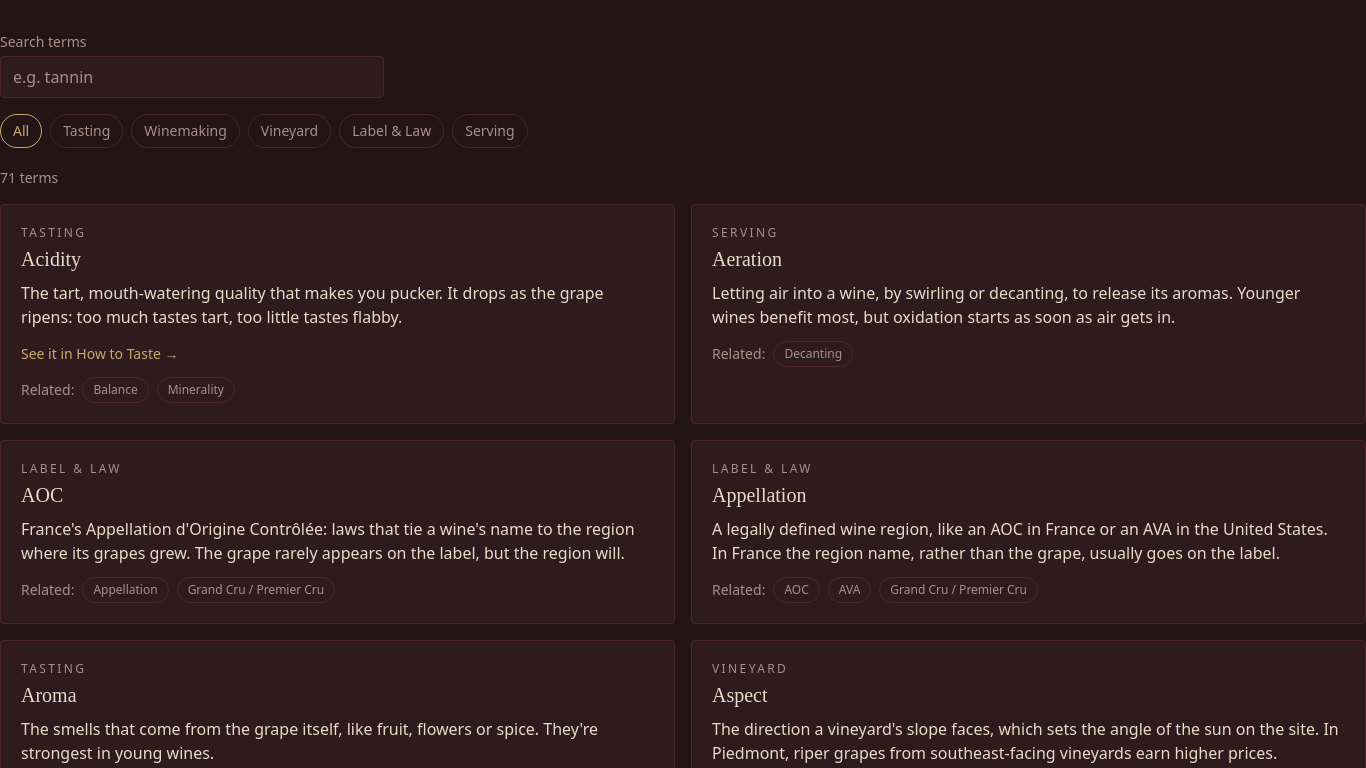
GlossaryChapter › shows an empty state that clears back to everything
The width and height of the screenshot is (1366, 768).
Click the button "Serving" at (490, 131), box [452, 114, 528, 148]
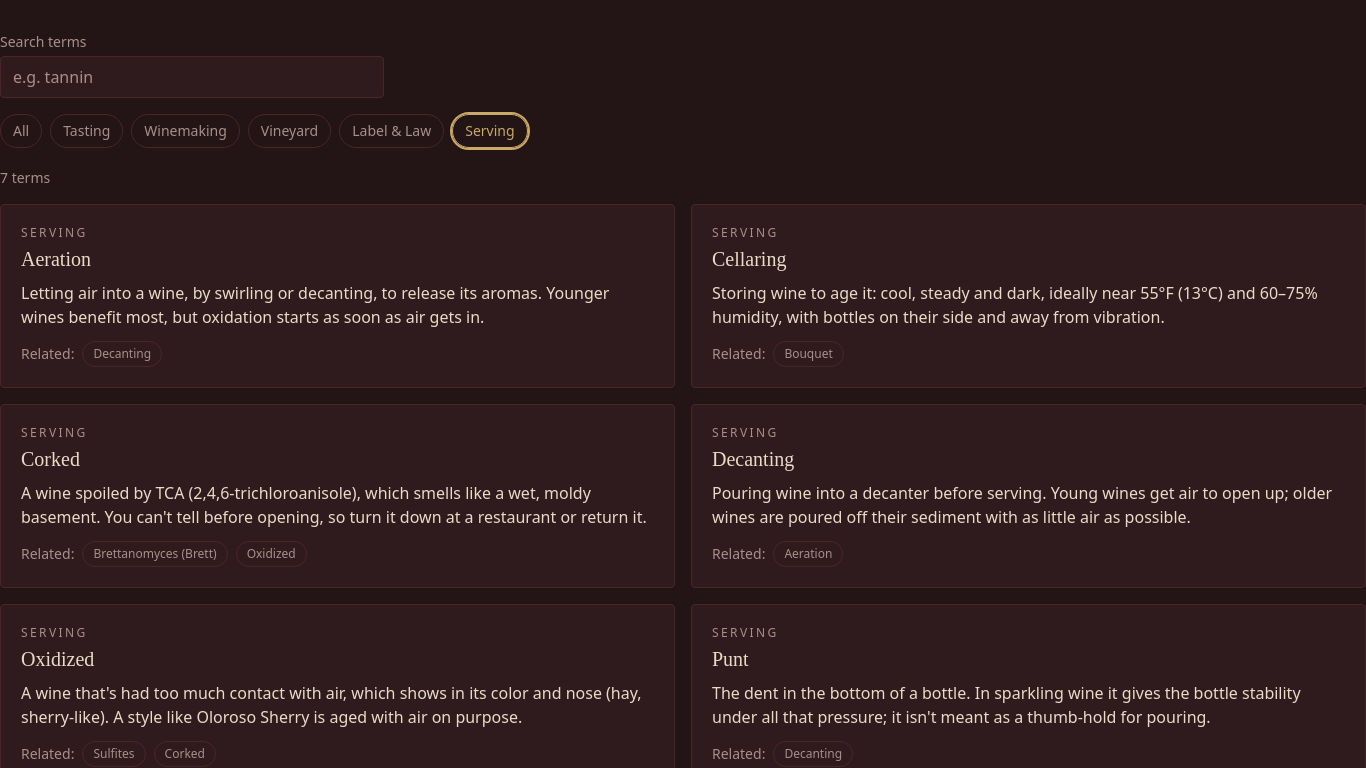
Type "zzzz" into the search field at (192, 77), box [0, 56, 384, 98]
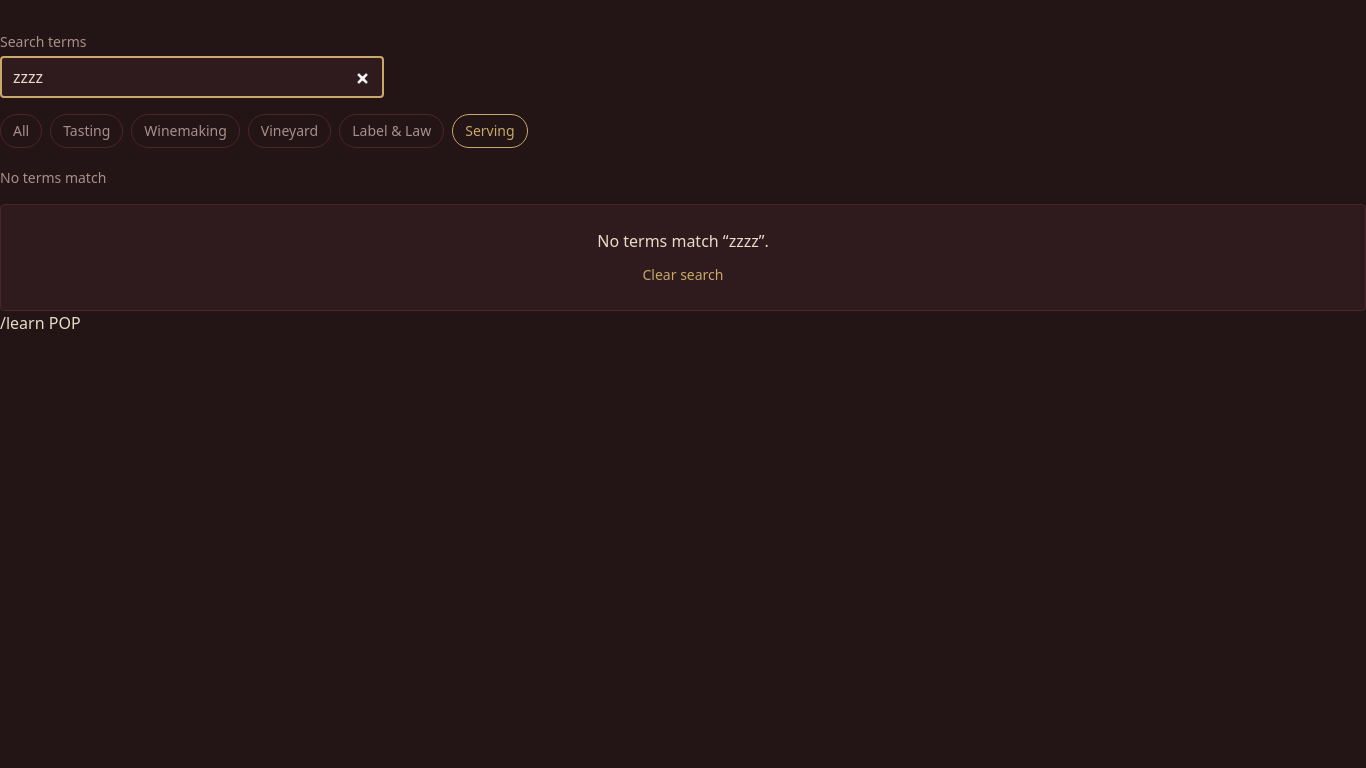
Now the message reads "No terms match", box [0, 168, 106, 187]
Now the text "No terms match “zzzz”." is shown, box [597, 230, 769, 252]
Click the button "Clear search" at (683, 275), box [642, 265, 724, 285]
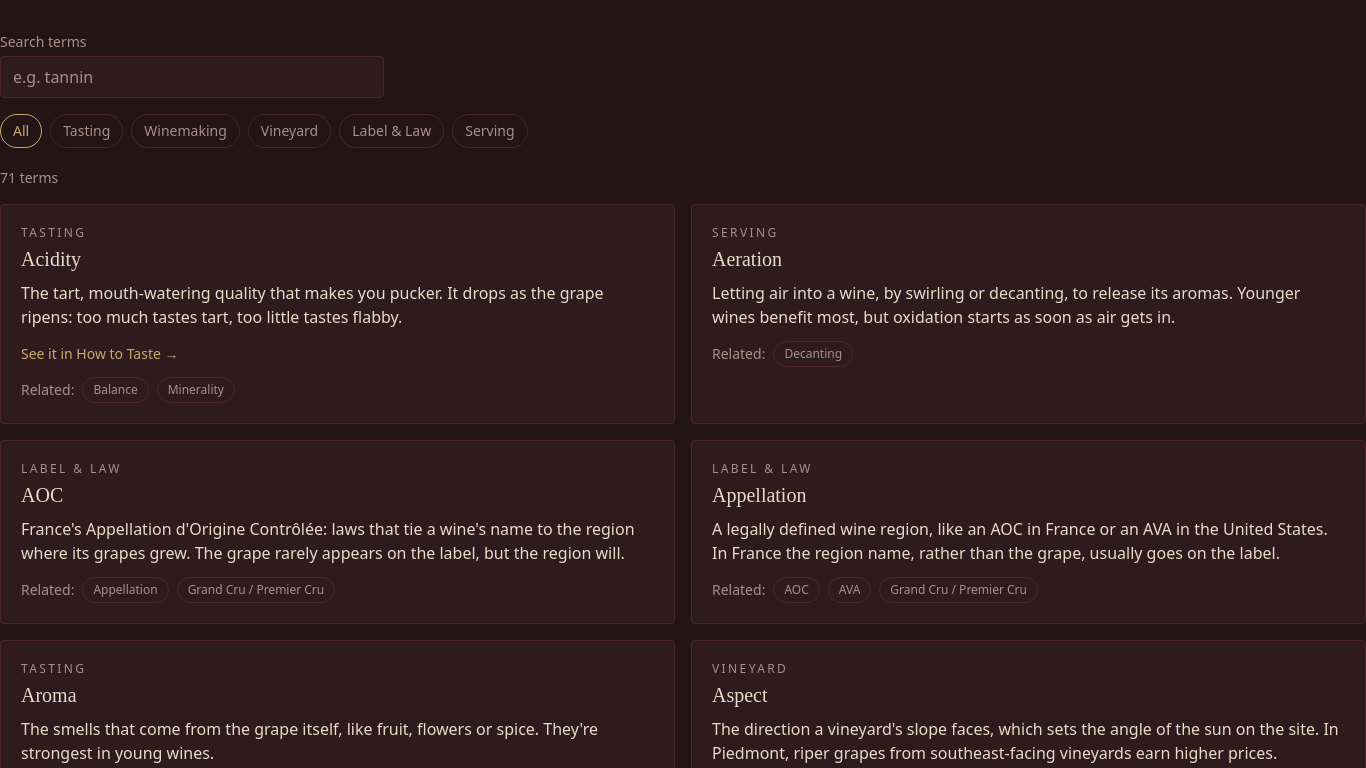
Now the search field is empty, box [0, 56, 384, 98]
